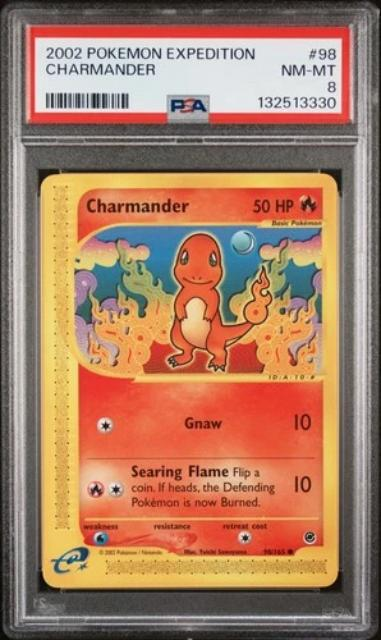Card: (36, 170, 343, 591)
Name: (78, 192, 192, 219)
